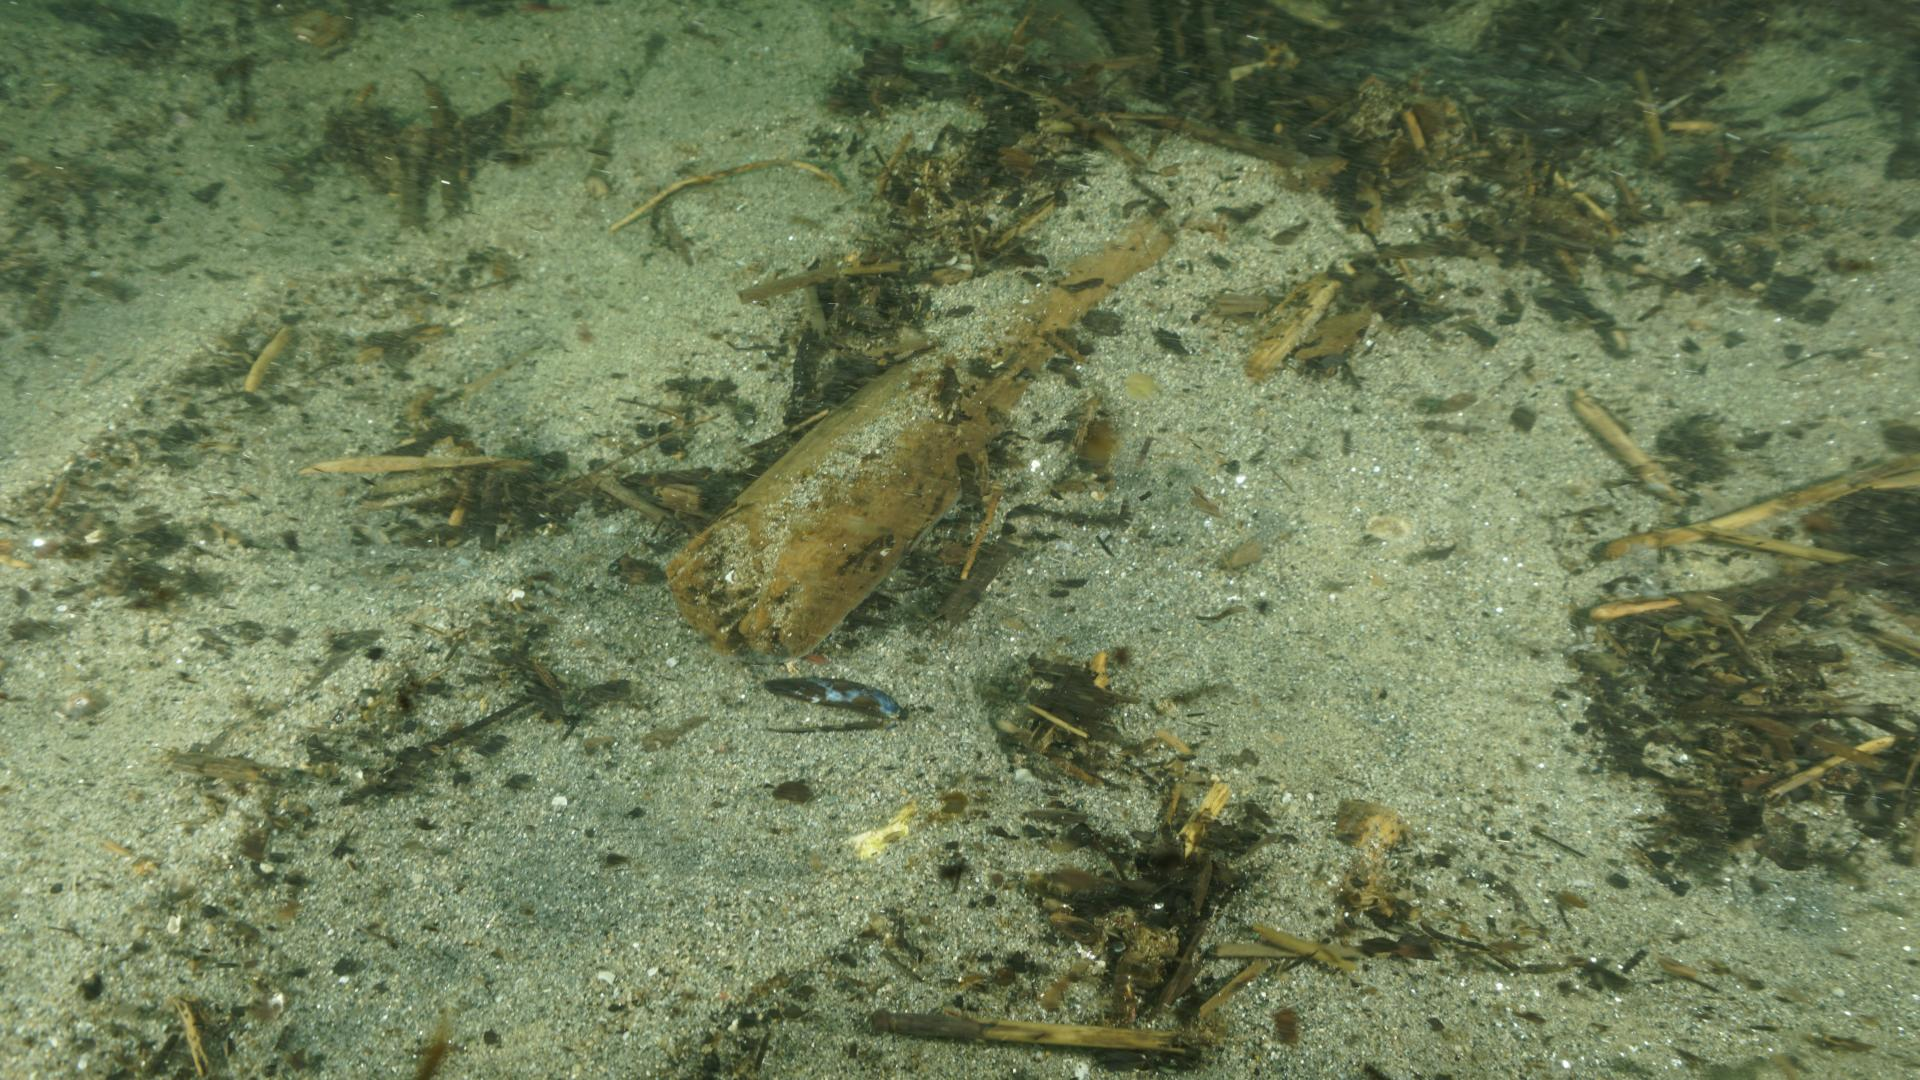wood: (671, 210, 1174, 665)
